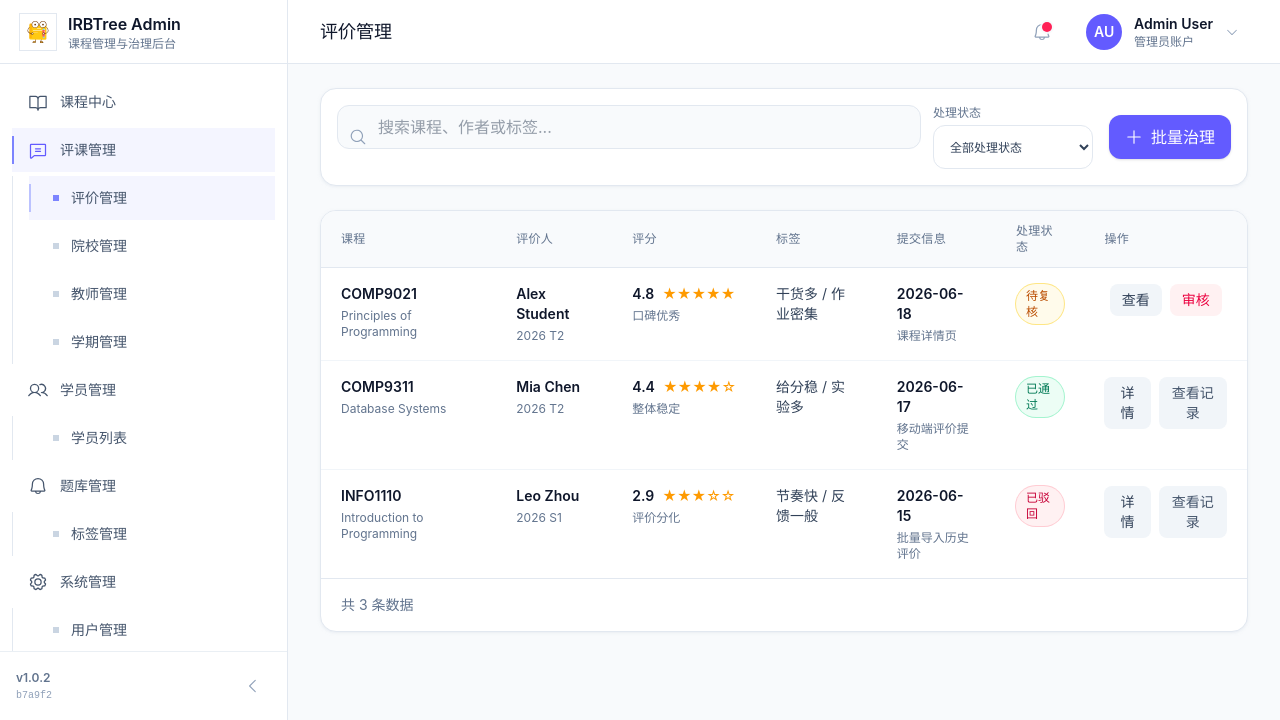
Test case: Admin page behaviors › updates the moderation badge after approving a review
The width and height of the screenshot is (1280, 720).
Expected: the text "待复核" is shown, [1016,284,1064,324]
Step 1. Click the button "查看" → (1136, 300), box [1110,284,1162,316]
(page scrolled)
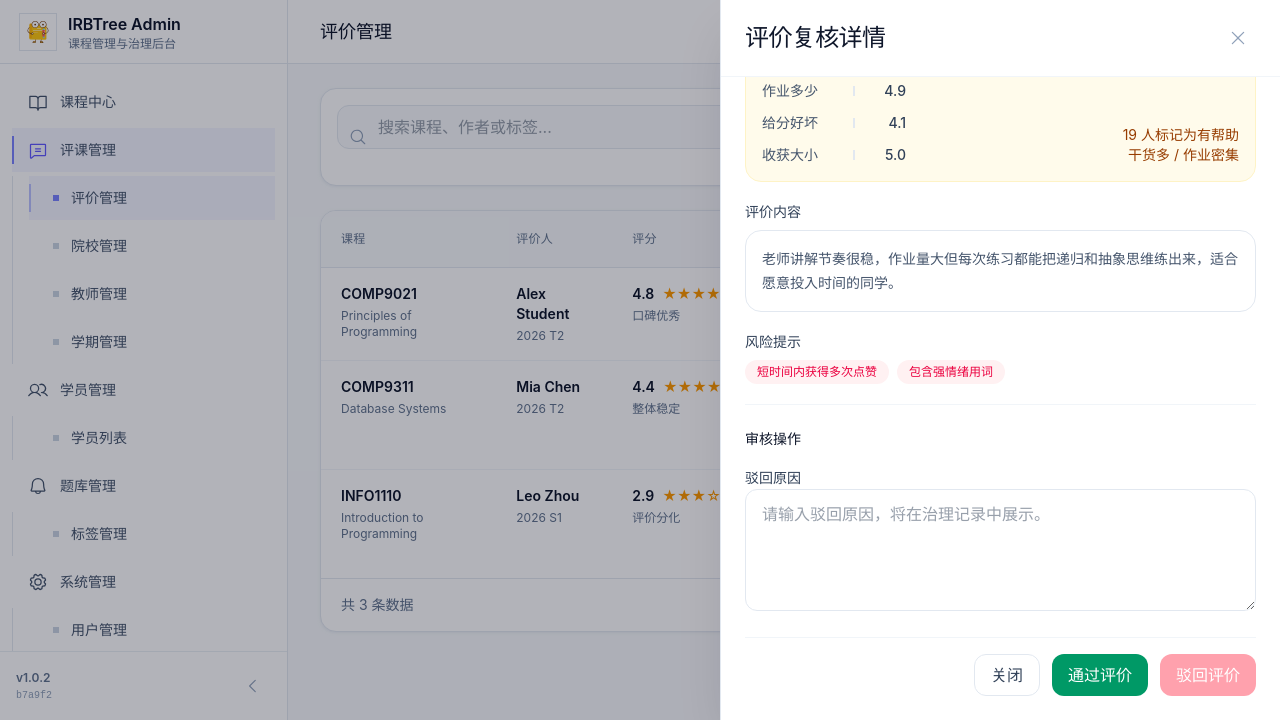
Step 2. Click the button "通过评价" → (1100, 675), box [1052,654,1148,696]
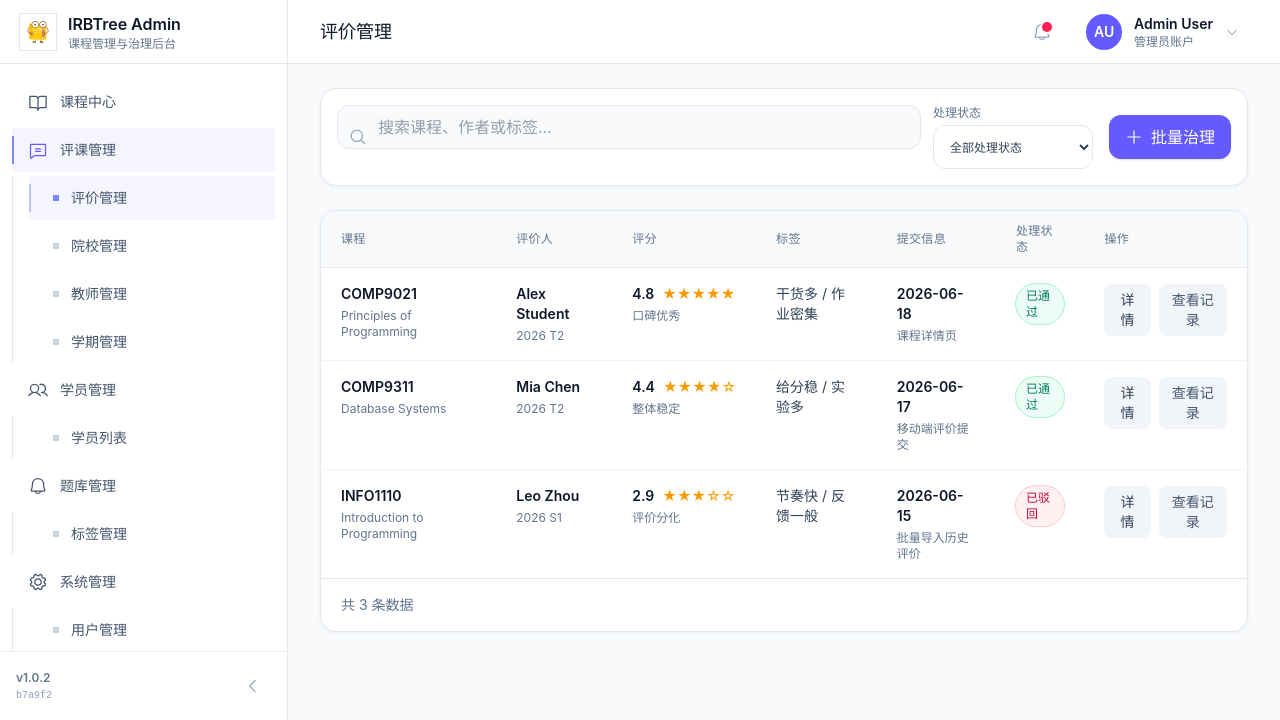
Result: the text "已通过" in the row of "COMP9021" is shown at [1026,288,1050,319]
